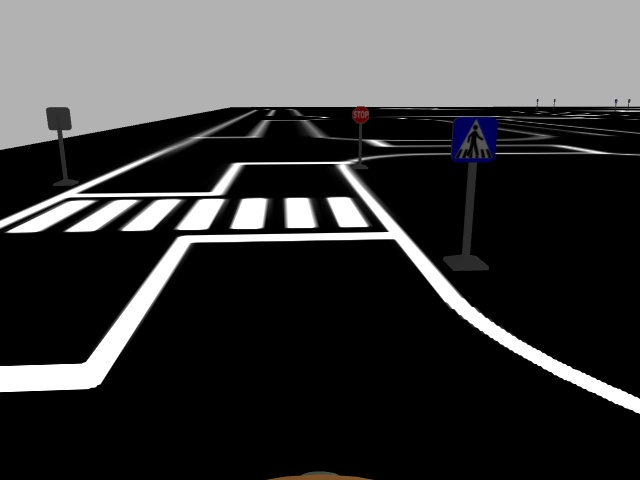crosswalk: (450, 114, 498, 165)
stop: (349, 105, 371, 125)
